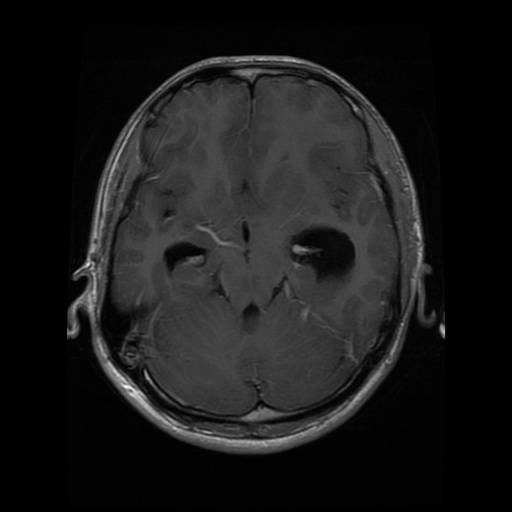glioma: (285, 227, 360, 278)
